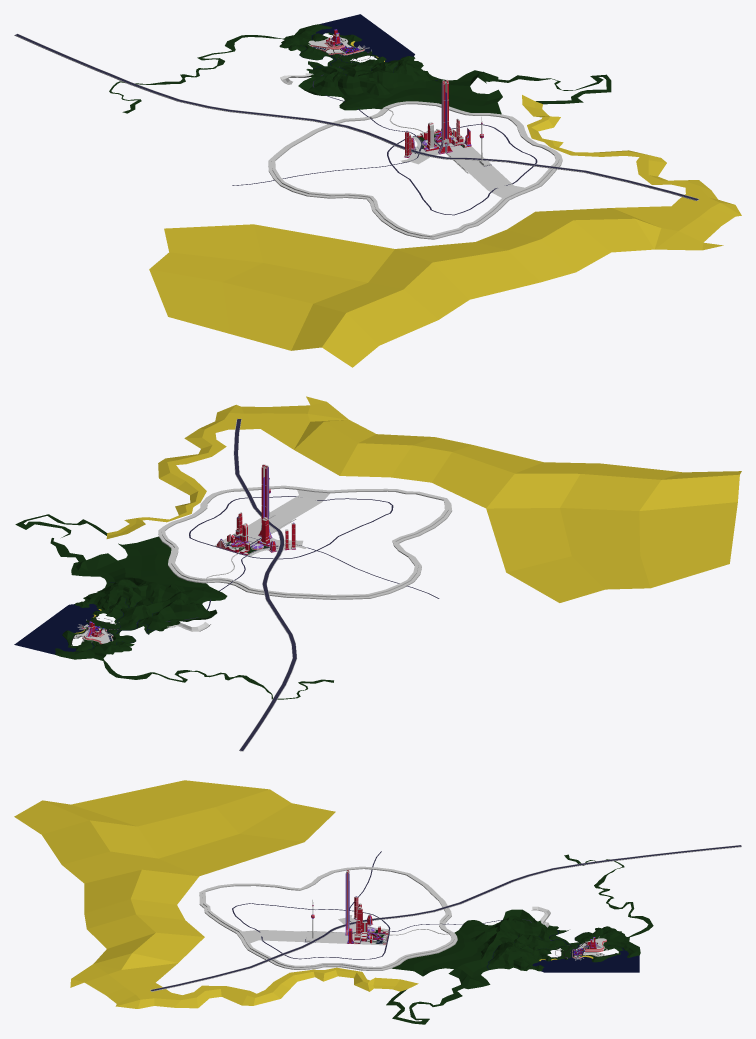
Rendered from city_old.obj.
3 renders of one model, top to bottom at view 1: azimuth 30°, elevation 25°; view 2: azimuth 150°, elevation 25°; view 3: azimuth 270°, elevation 25°, orthographic. The views are drawn at different scales.
Parts seen in each view (by area): view 1: city_Cube, Plane.013_Plane.009, Plane.003, Plane.014_Plane.011, Plane.005, Plane.004, Plane.001; view 2: city_Cube, Plane.013_Plane.009, Plane.003, Plane.014_Plane.011, Plane.005, Plane.004; view 3: city_Cube, Plane.013_Plane.009, Plane.003, Plane.014_Plane.011, Plane.005, Plane.004.
Boxes of the visible parts, x1=… form: city_Cube: x1=109, y1=14, x2=741, y2=367; Plane.013_Plane.009: x1=268, y1=101, x2=562, y2=239; Plane.003: x1=14, y1=33, x2=699, y2=200; Plane.014_Plane.011: x1=447, y1=146, x2=523, y2=197; Plane.005: x1=387, y1=118, x2=537, y2=215; Plane.004: x1=232, y1=66, x2=439, y2=185; Plane.001: x1=434, y1=79, x2=467, y2=173; city_Cube: x1=14, y1=396, x2=741, y2=699; Plane.013_Plane.009: x1=158, y1=485, x2=452, y2=599; Plane.003: x1=233, y1=418, x2=296, y2=751; Plane.014_Plane.011: x1=248, y1=490, x2=329, y2=539; Plane.005: x1=189, y1=496, x2=393, y2=559; Plane.004: x1=136, y1=538, x2=439, y2=623; city_Cube: x1=14, y1=780, x2=653, y2=1024; Plane.013_Plane.009: x1=199, y1=866, x2=457, y2=970; Plane.003: x1=150, y1=845, x2=741, y2=991; Plane.014_Plane.011: x1=242, y1=930, x2=354, y2=943; Plane.005: x1=232, y1=903, x2=390, y2=959; Plane.004: x1=338, y1=851, x2=551, y2=940.
Size of the model in its own units: 14356 by 1834 by 18065.
